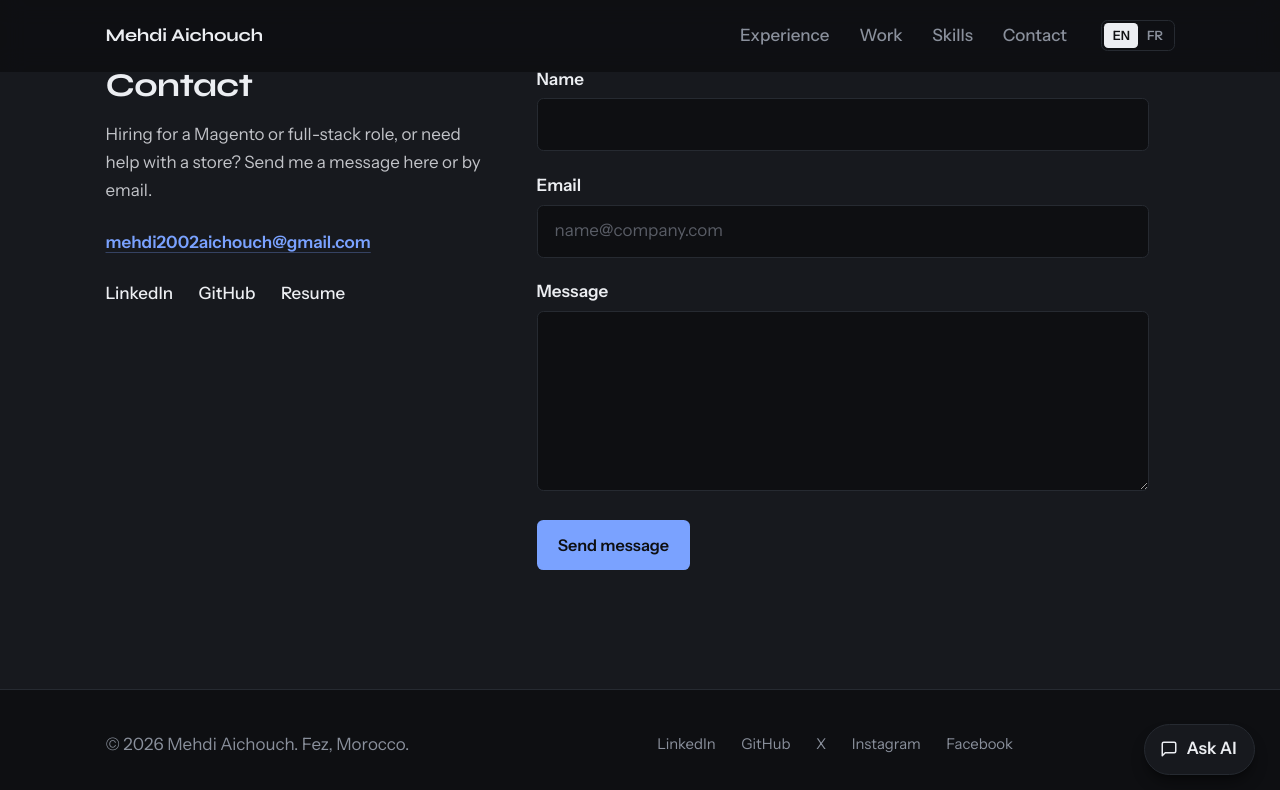
Test: Contact form validation › clears the field error once the user types
(page scrolled)
Click the button "Send message": (613, 545) [536,520,690,570]
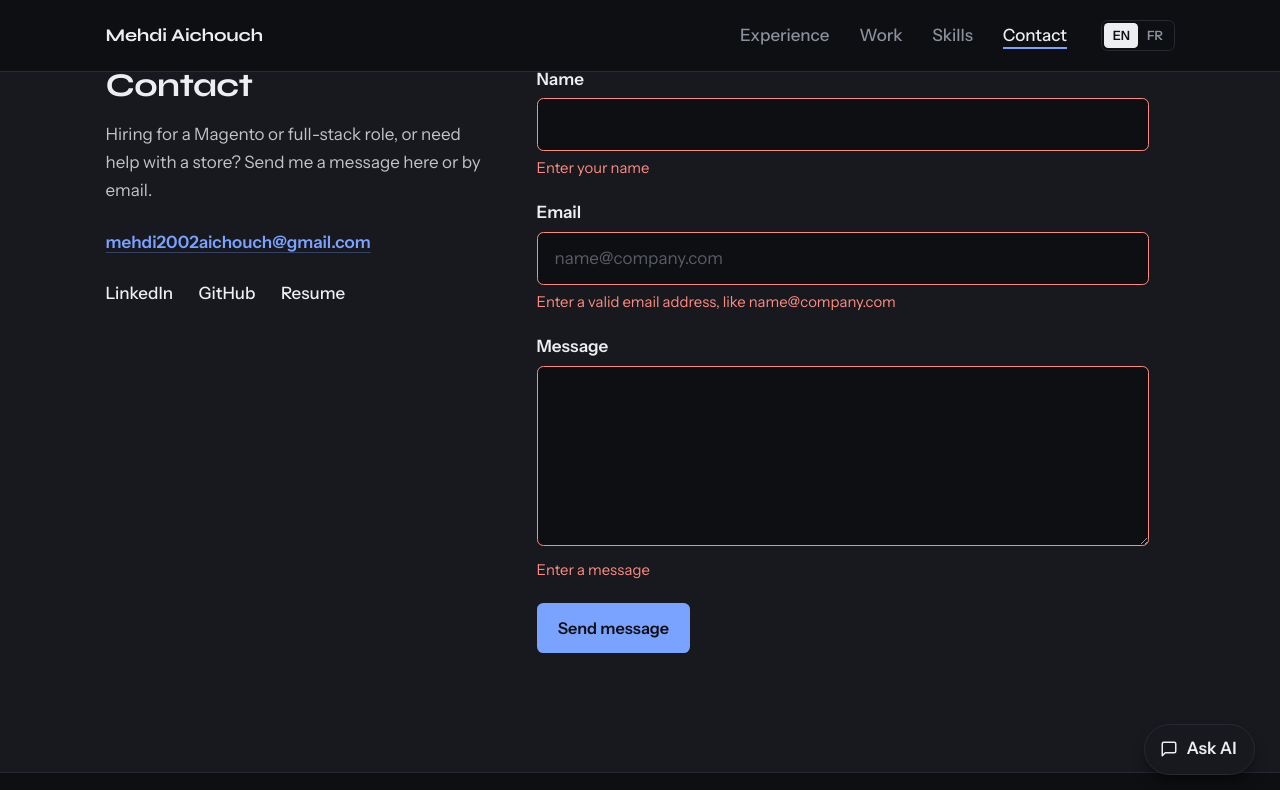
Check: the text "Enter your name" is shown, box [536,159,650,177]
In the field labelled "Name": (842, 125) [536,98,1148,152], type "Jane"
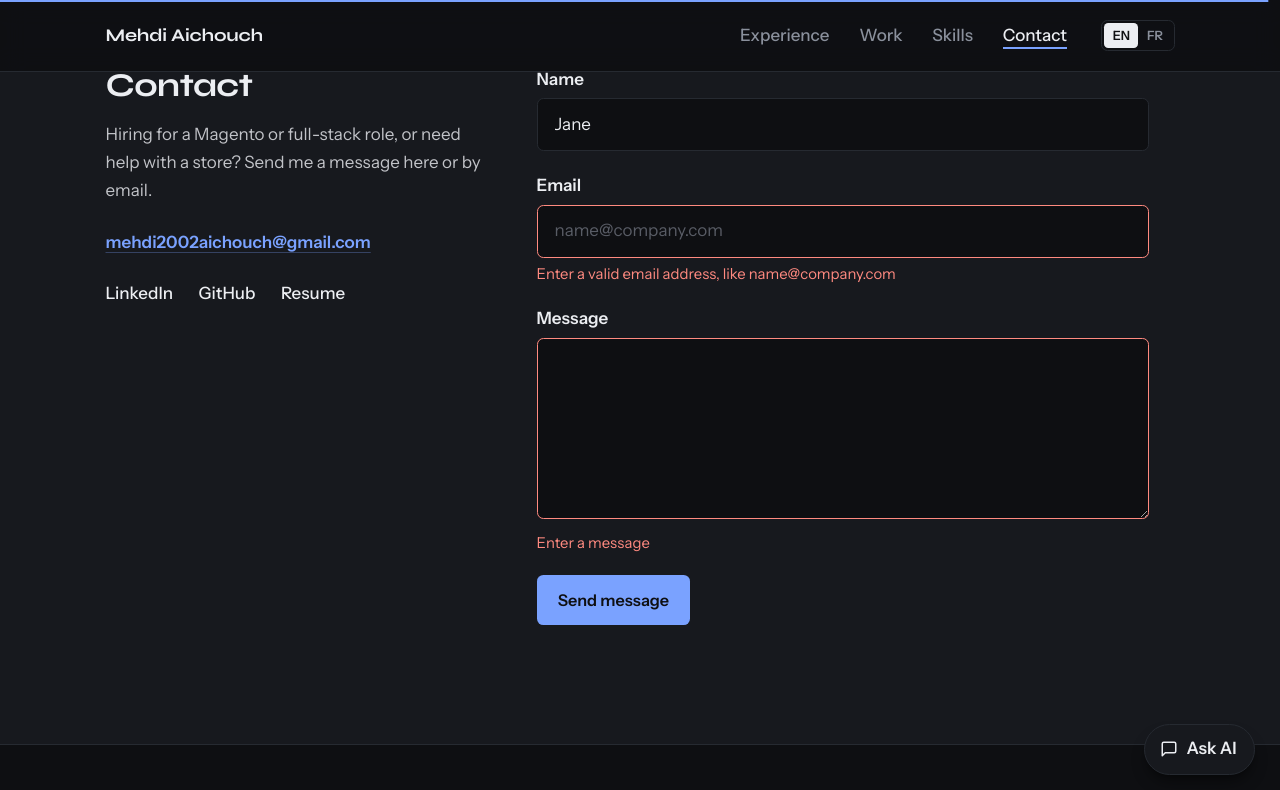
Check: the text "Enter your name" is gone
